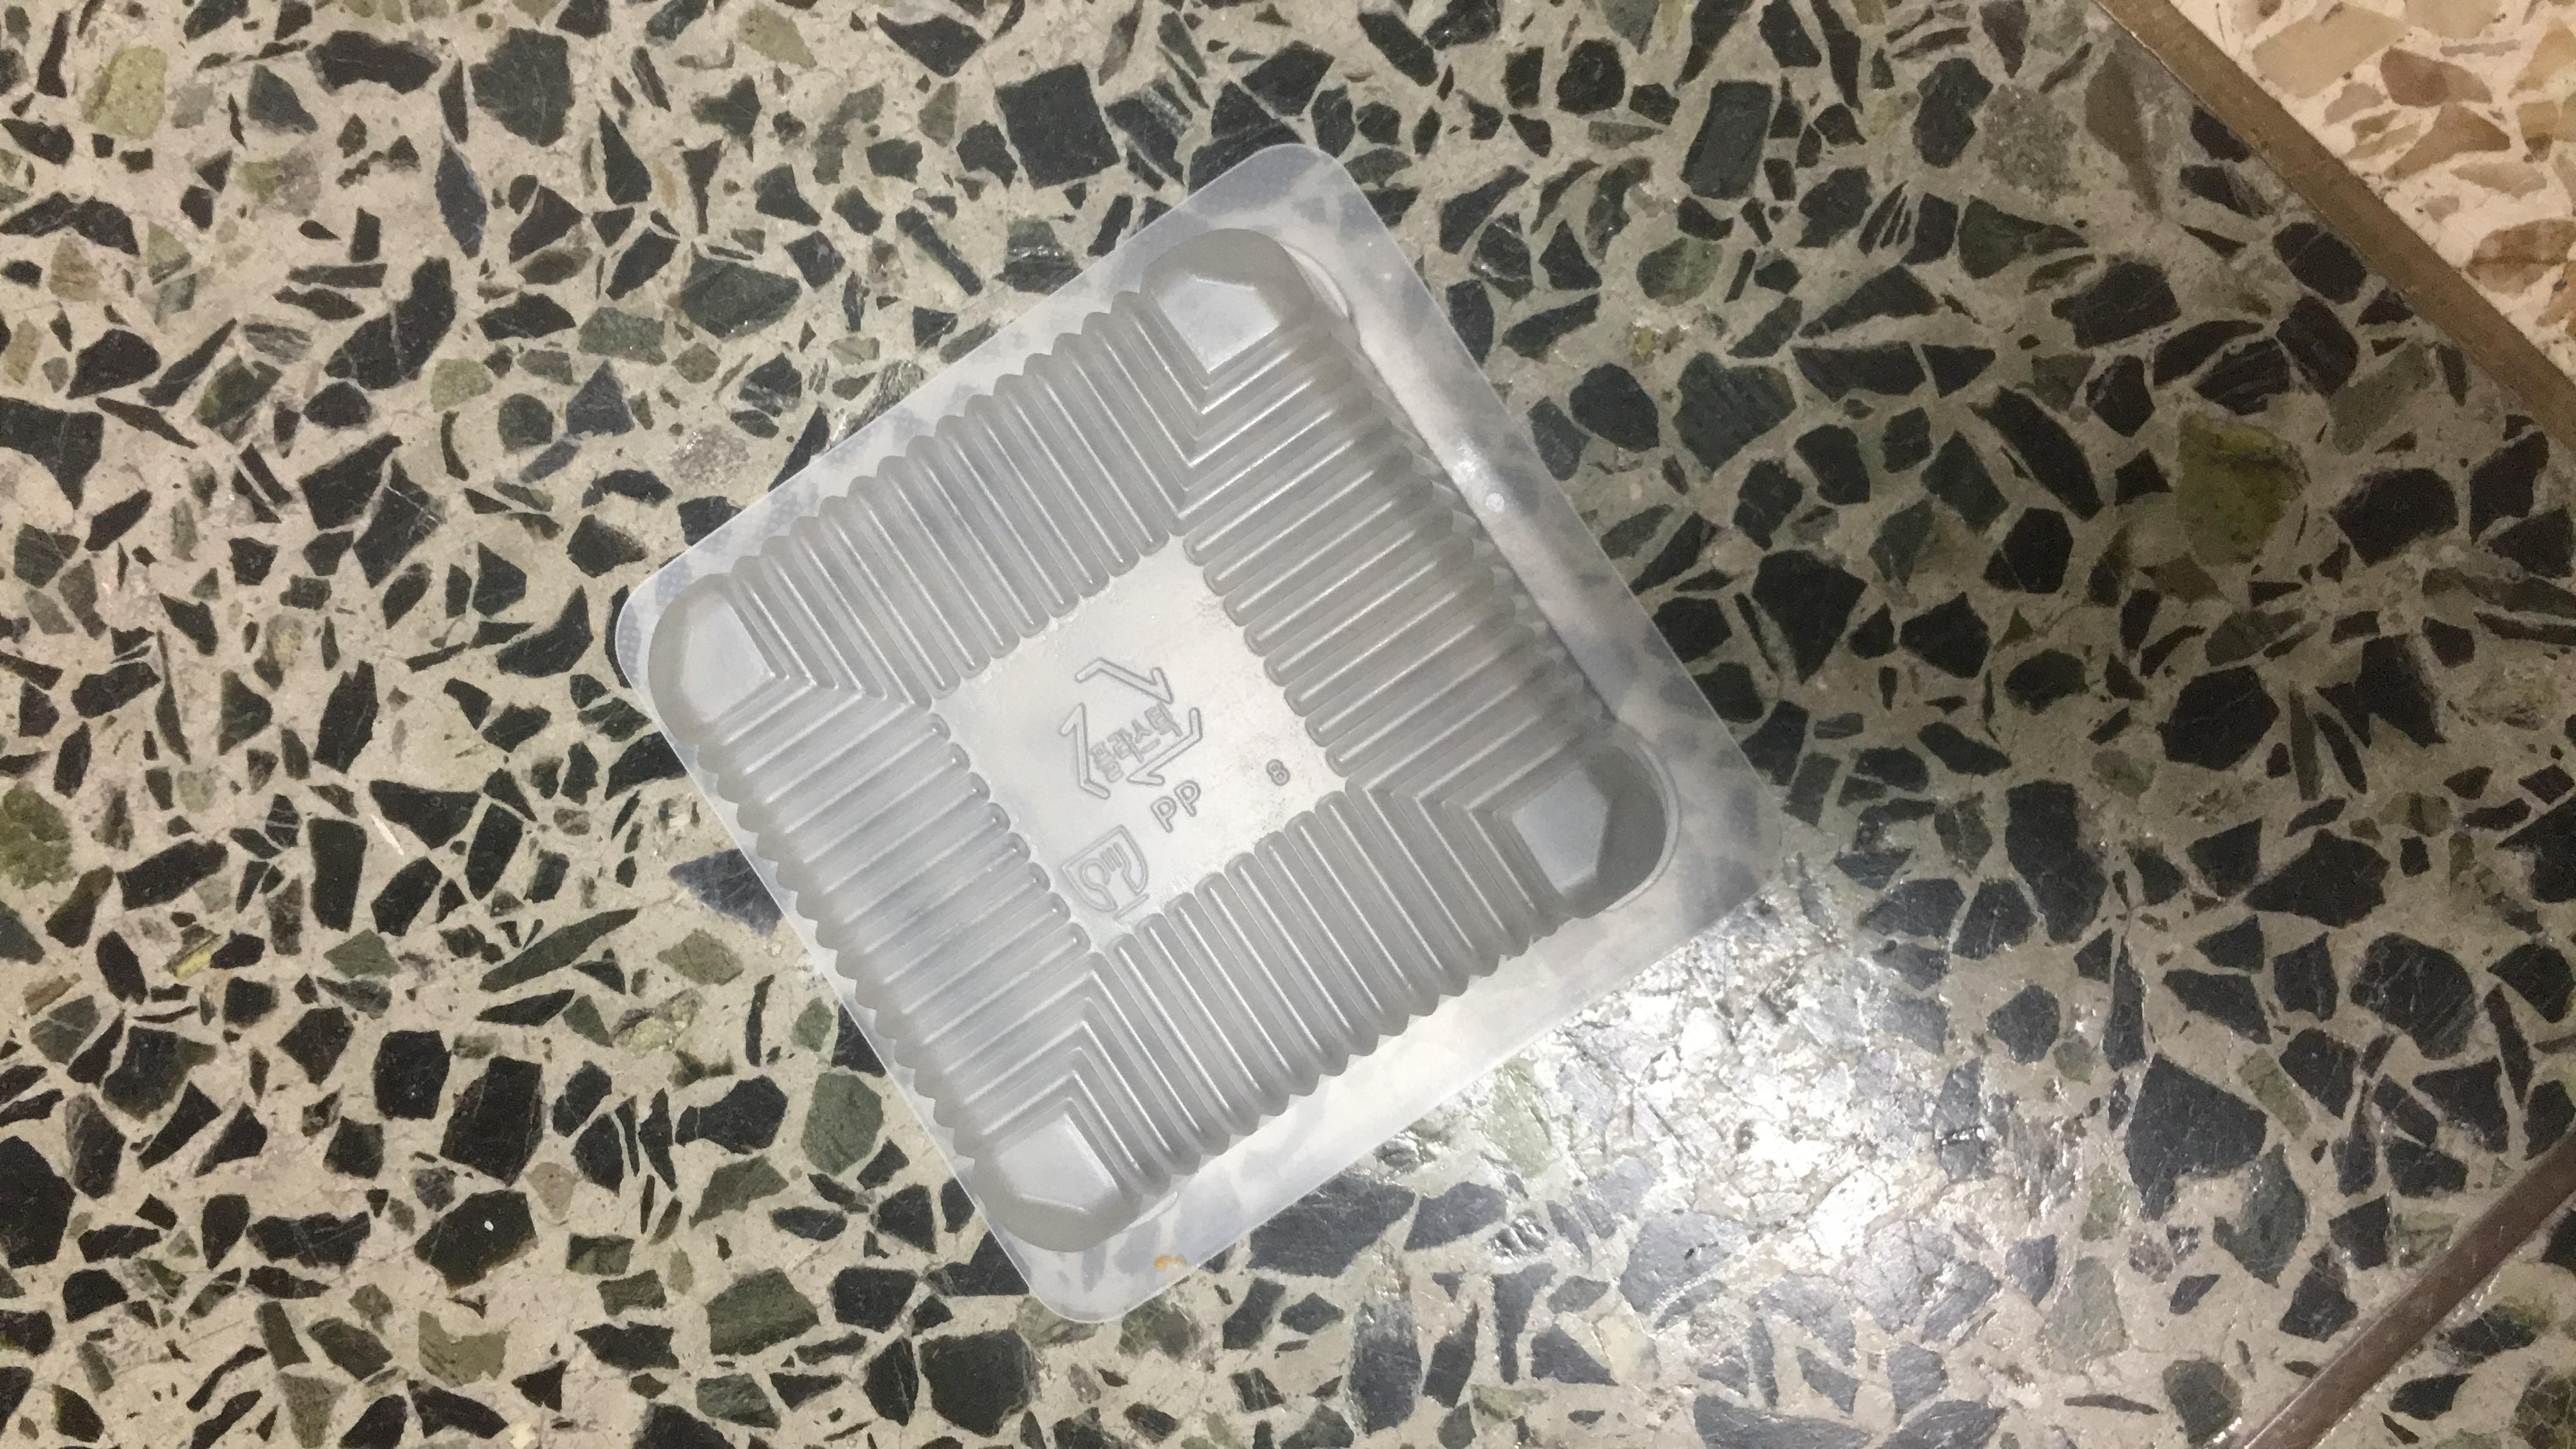bottle: (1030, 301, 1040, 994)
